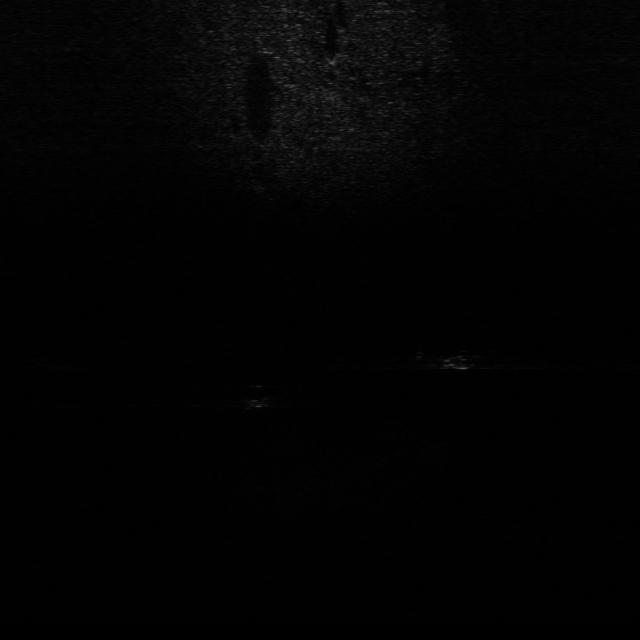ball: (232, 380, 278, 412)
human body: (404, 341, 506, 376)
